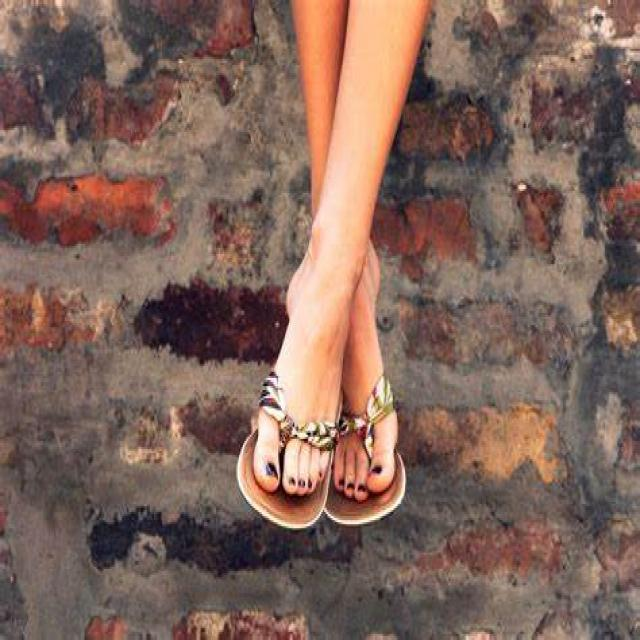No_Shoe: (234, 207, 412, 536)
